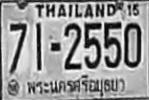0: (123, 22, 141, 67)
1: (35, 22, 41, 69)
2: (64, 22, 81, 69)
5: (103, 22, 121, 68), (84, 22, 100, 68)
7: (9, 22, 26, 71)
AYA: (24, 72, 124, 100)
